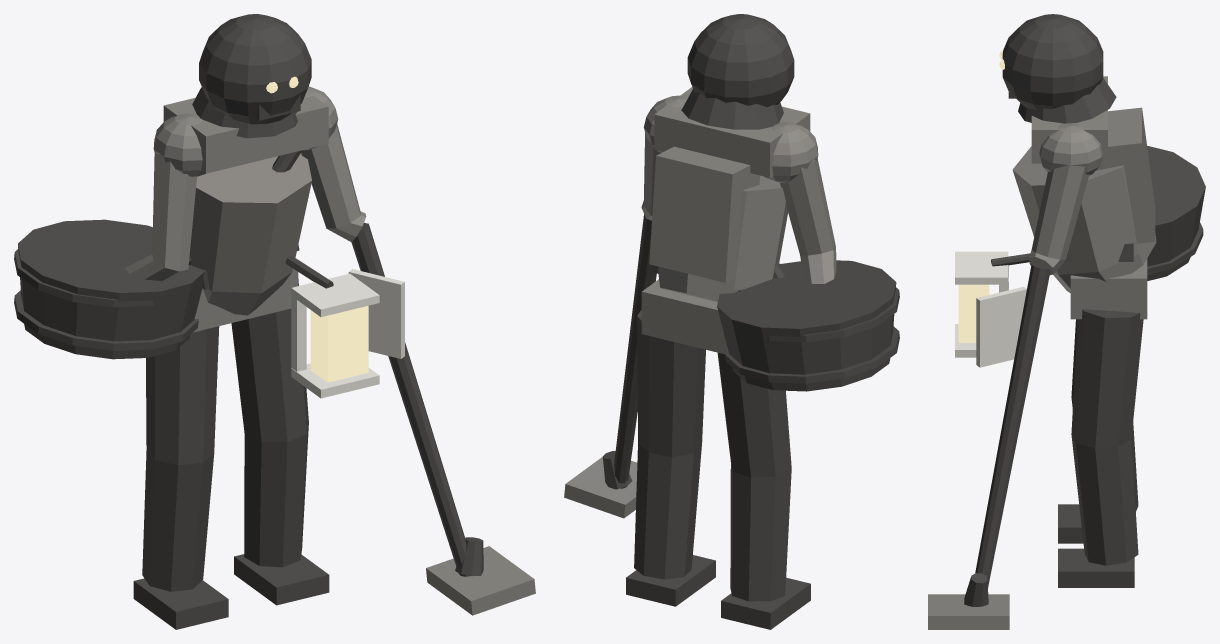
Rendered from nightman.glb.
3 renders of one model, left to right at view 1: azimuth 30°, elevation 25°; view 2: azimuth 150°, elevation 25°; view 3: azimuth 270°, elevation 25°, orthographic. The views are drawn at different scales.
Parts seen in each view (by area): view 1: nightman_dark, nightman_body, nightman_bone, nightman_glow; view 2: nightman_dark, nightman_body; view 3: nightman_dark, nightman_body, nightman_bone, nightman_glow.
Part boxes in pixels (x1=…): nightman_dark: x1=14, y1=14, x2=483, y2=629; nightman_body: x1=125, y1=86, x2=535, y2=615; nightman_bone: x1=291, y1=269, x2=404, y2=398; nightman_glow: x1=266, y1=76, x2=368, y2=382; nightman_dark: x1=602, y1=14, x2=899, y2=629; nightman_body: x1=564, y1=87, x2=836, y2=518; nightman_dark: x1=964, y1=14, x2=1205, y2=606; nightman_body: x1=928, y1=76, x2=1156, y2=629; nightman_bone: x1=955, y1=251, x2=1026, y2=367; nightman_glow: x1=958, y1=50, x2=1004, y2=342.
Bounding box in the file's own units: 1.63 × 2.3 × 1.08.
